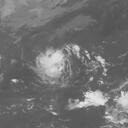cyclone: (33, 47, 73, 86)
